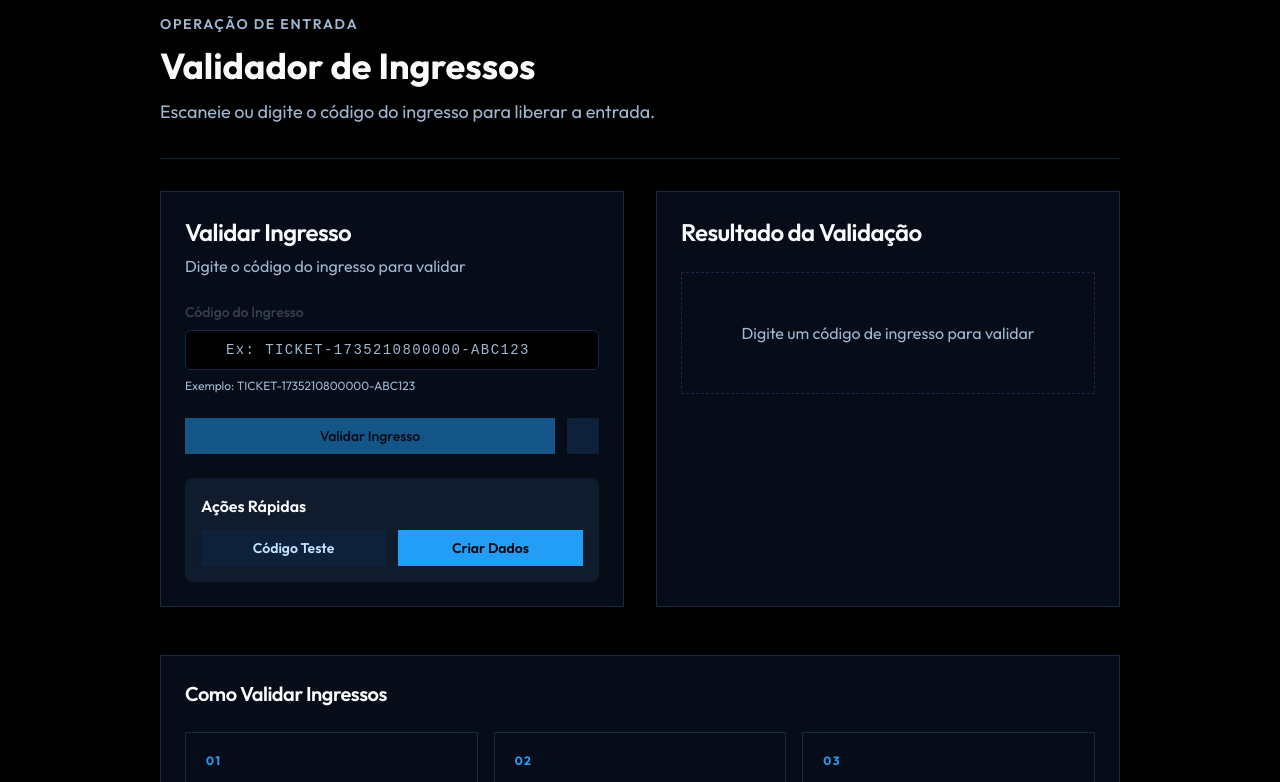
Scenario: ValidatorPage › exibe INVÁLIDO no histórico para status invalid
The width and height of the screenshot is (1280, 782).
In the field with placeholder "Ex: TICKET-1735210800000-ABC123": (392, 350) x1=185 y1=330 x2=599 y2=370, type "TICKET-BAD"
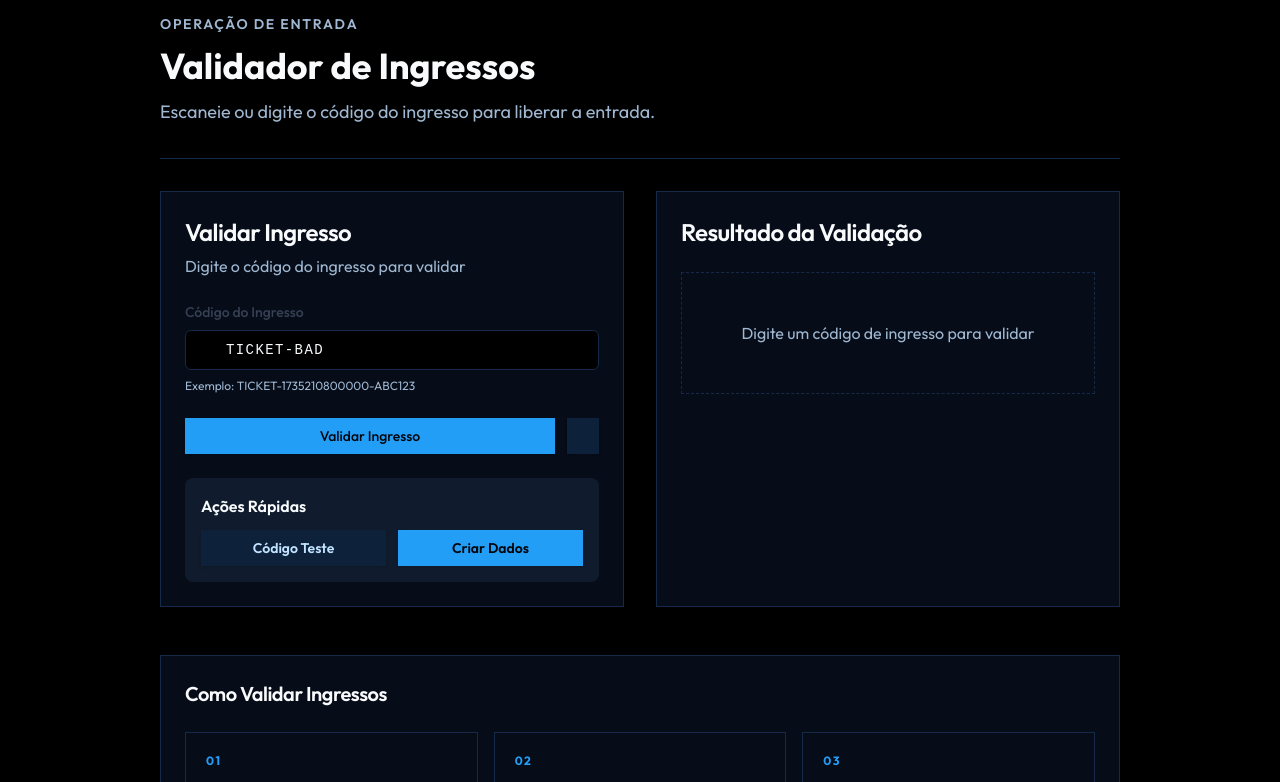
Click the button "Validar Ingresso": (370, 436) x1=185 y1=418 x2=555 y2=454
(page scrolled)
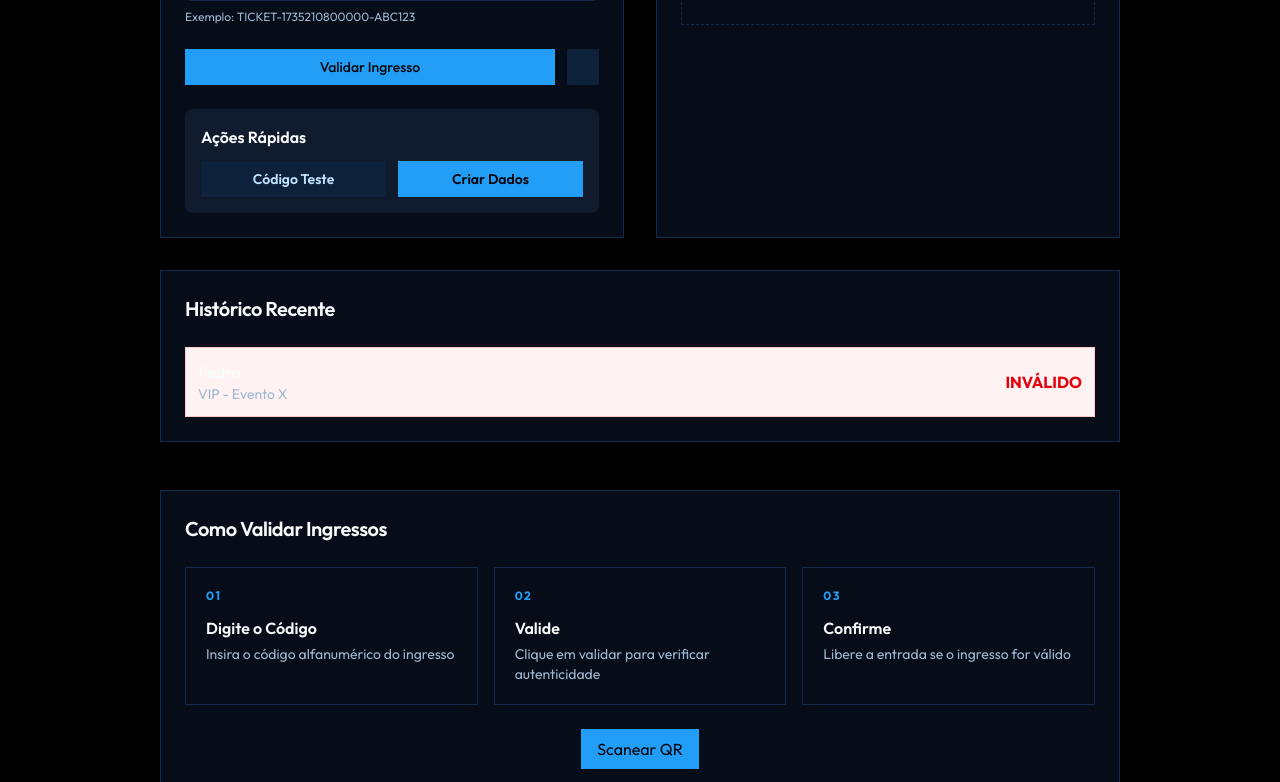
Expected: the text "INVÁLIDO" is shown, x1=1005 y1=370 x2=1082 y2=394
